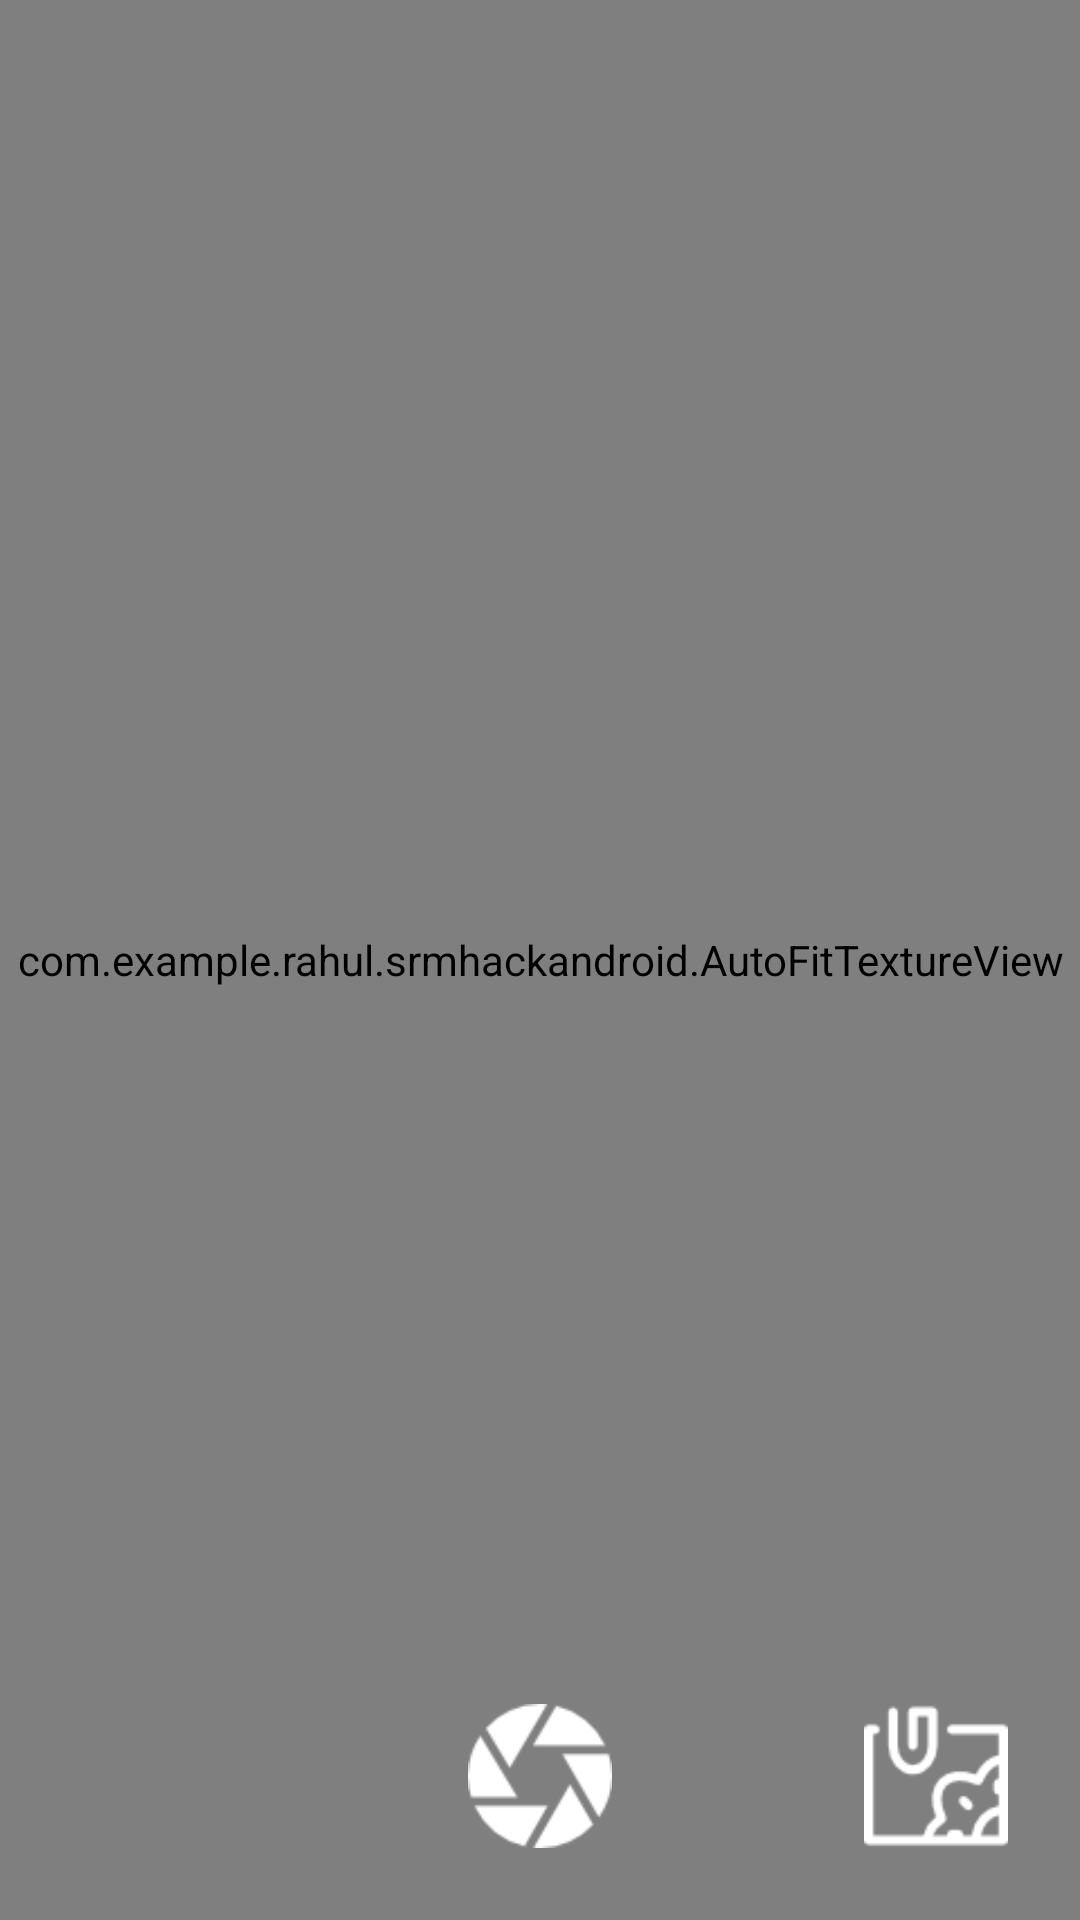

Where icons sit on this 1080 × 1920 app screen, as [x1=x1, y1=y1, x2=x2, y2=y2]:
camera shutter: [x1=468, y1=1704, x2=612, y2=1848]
